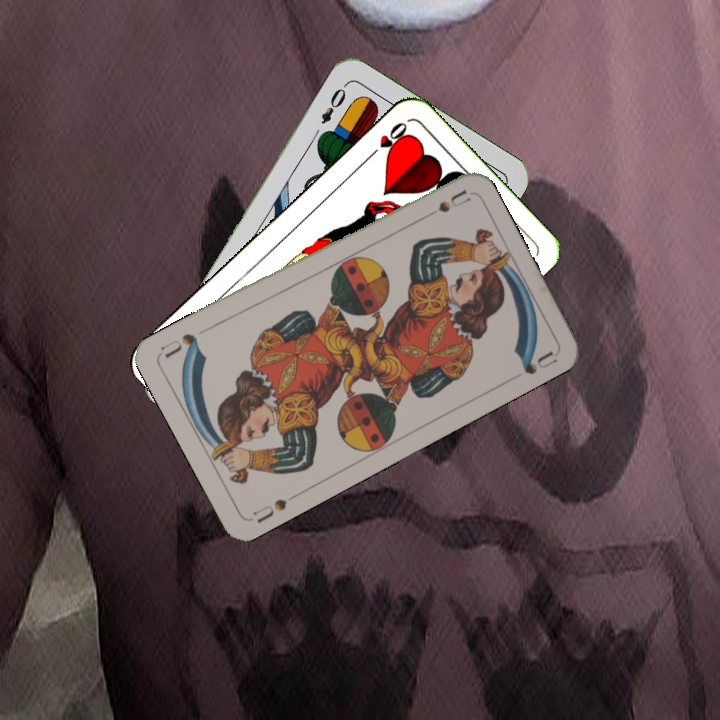EO: (317, 79, 350, 127)
HO: (363, 118, 410, 162)
SU: (415, 186, 472, 224), (249, 489, 301, 526)
